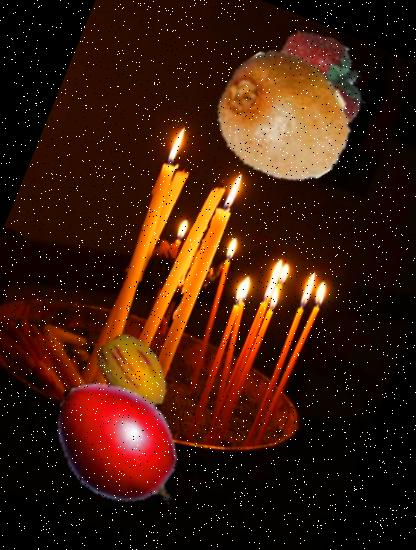Kiwi: (192, 28, 373, 210)
Pepino: (81, 320, 188, 427)
Potato: (60, 366, 188, 495)
Strawberry: (240, 10, 396, 166)
Tamarillo: (24, 350, 218, 544)
